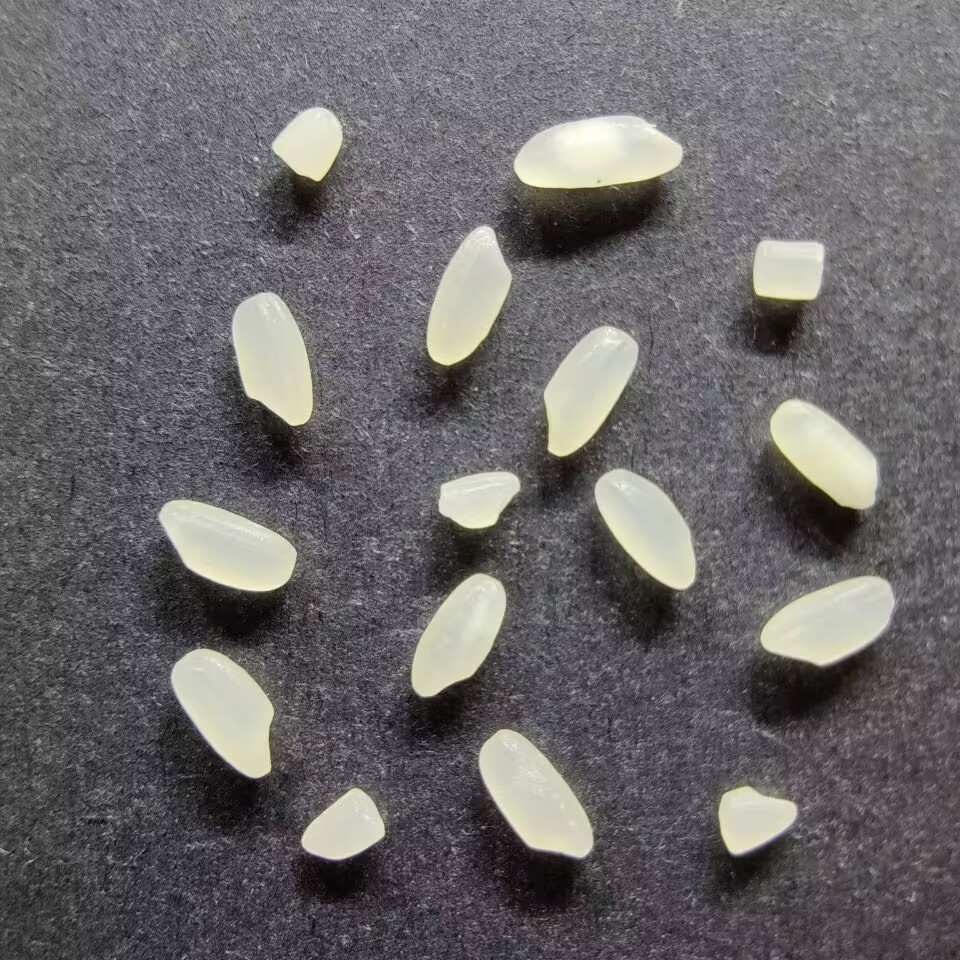broken: (298, 784, 387, 861), (717, 783, 802, 859), (269, 103, 343, 185), (433, 469, 524, 530), (747, 236, 827, 302)
rice: (476, 727, 595, 860), (168, 646, 277, 780), (540, 323, 641, 458), (511, 112, 684, 190), (156, 498, 299, 592), (592, 467, 698, 592), (767, 397, 881, 512), (423, 223, 514, 366), (758, 574, 895, 667), (408, 572, 508, 699), (229, 290, 314, 428)
